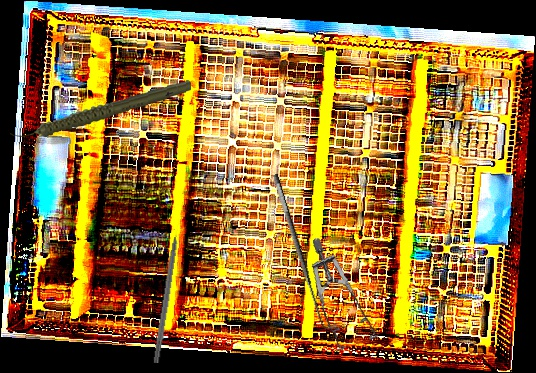Handpiece: (7, 78, 194, 141)
Hook Surgical: (269, 170, 339, 333), (152, 218, 184, 364)
Speculum: (293, 237, 395, 359)
